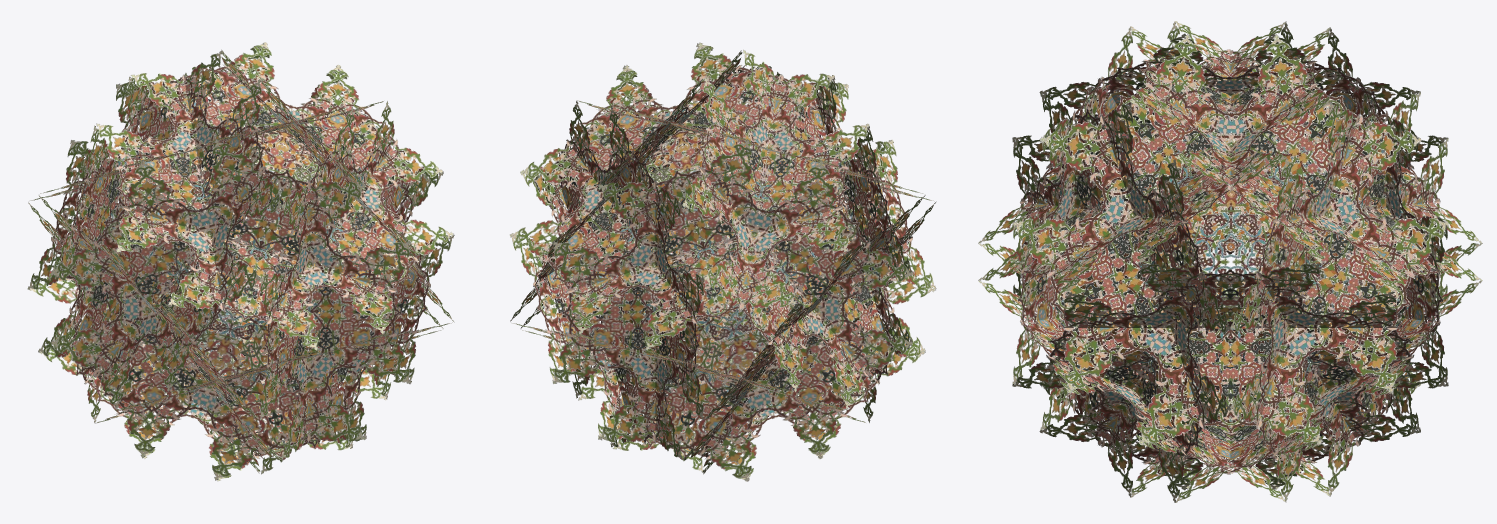
Rendered from GreatDodecahedron10.obj.
3 views of the same model, side by side, from view 1: azimuth 30°, elevation 25°; view 2: azimuth 150°, elevation 25°; view 3: azimuth 270°, elevation 25° (orthographic). The views are drawn at different scales.
Bounding box in the file's own units: 1.62 × 1.62 × 1.62.
1 material, 1 textured.
